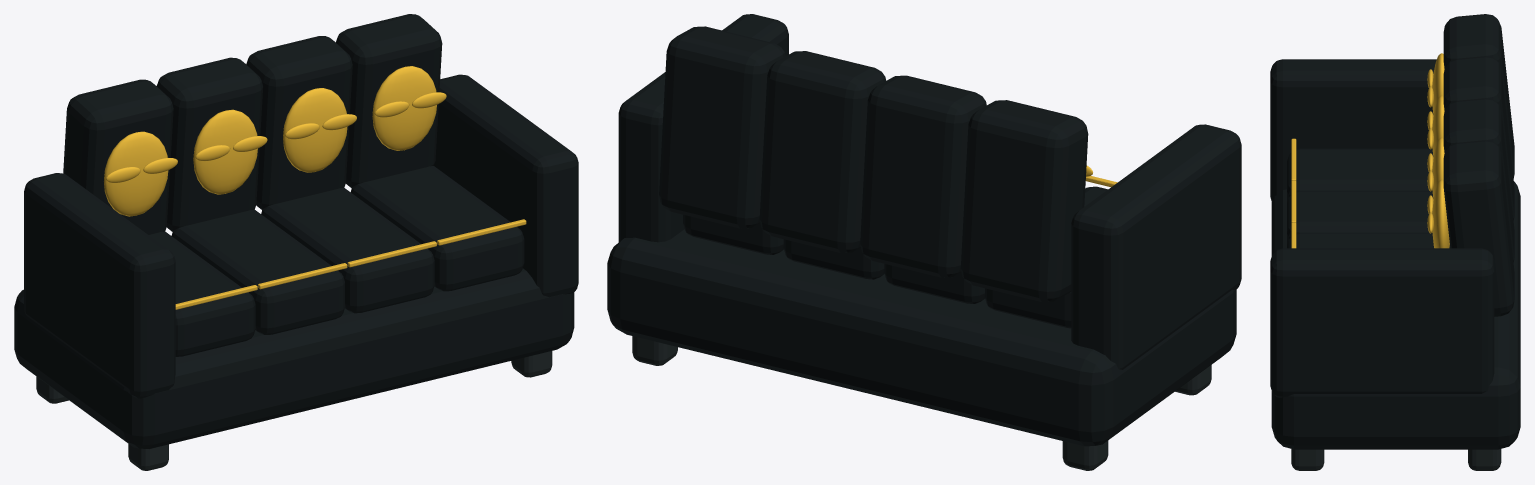
Rendered from best.glb.
3 renders of one model, left to right at view 1: azimuth 30°, elevation 25°; view 2: azimuth 150°, elevation 25°; view 3: azimuth 270°, elevation 25°, orthographic. The views are drawn at different scales.
Parts seen in each view (by area): view 1: Armrest, Decorative cushion, Sofa foot; view 2: Armrest, Sofa foot; view 3: Armrest, Decorative cushion, Sofa foot.
Boxes of the visible parts, x1=… form: Armrest: x1=14, y1=14, x2=578, y2=448; Decorative cushion: x1=104, y1=66, x2=526, y2=309; Sofa foot: x1=36, y1=351, x2=552, y2=470; Armrest: x1=607, y1=14, x2=1241, y2=446; Sofa foot: x1=632, y1=336, x2=1211, y2=470; Armrest: x1=1270, y1=14, x2=1520, y2=449; Decorative cushion: x1=1291, y1=53, x2=1449, y2=248; Sofa foot: x1=1291, y1=449, x2=1501, y2=470.
Bounding box in the file's own units: 2 × 1.26 × 1.01.
